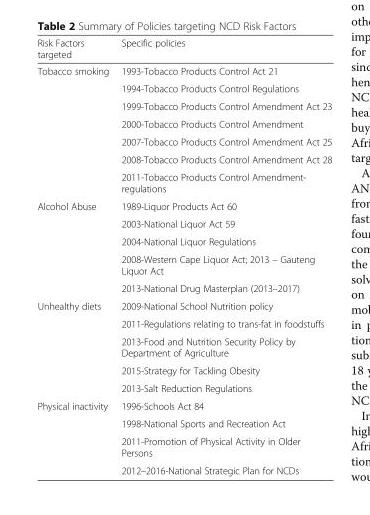table: (36, 36, 331, 475)
table column: (114, 36, 331, 475), (36, 36, 114, 475)
table column header: (36, 36, 331, 62)
table row: (36, 167, 331, 196), (36, 250, 331, 279), (36, 332, 331, 361), (36, 432, 331, 461), (36, 36, 331, 62), (36, 79, 331, 97), (36, 114, 331, 132), (36, 132, 331, 150), (36, 196, 331, 214), (36, 214, 331, 232), (36, 232, 331, 250), (36, 296, 331, 314), (36, 314, 331, 332), (36, 361, 331, 379), (36, 396, 331, 414), (36, 414, 331, 432), (36, 62, 331, 79), (36, 97, 331, 114), (36, 150, 331, 167), (36, 279, 331, 296), (36, 379, 331, 396), (36, 461, 331, 475)
table spanning cell: (36, 62, 114, 196), (36, 196, 114, 296), (36, 296, 114, 396), (36, 396, 114, 475)
